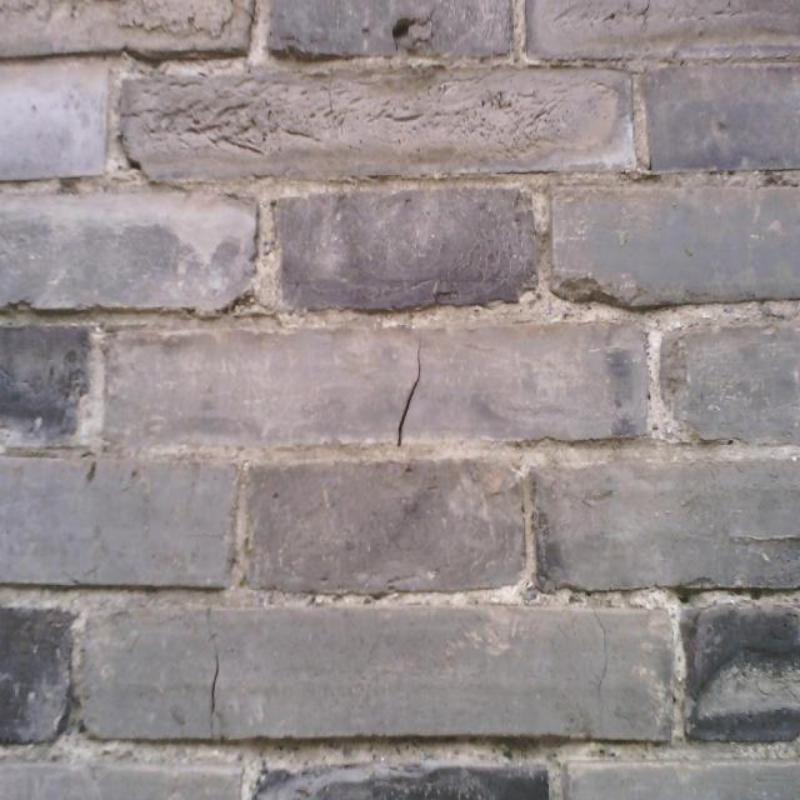pothole: (397, 339, 421, 447), (593, 609, 608, 694), (211, 651, 220, 713)
